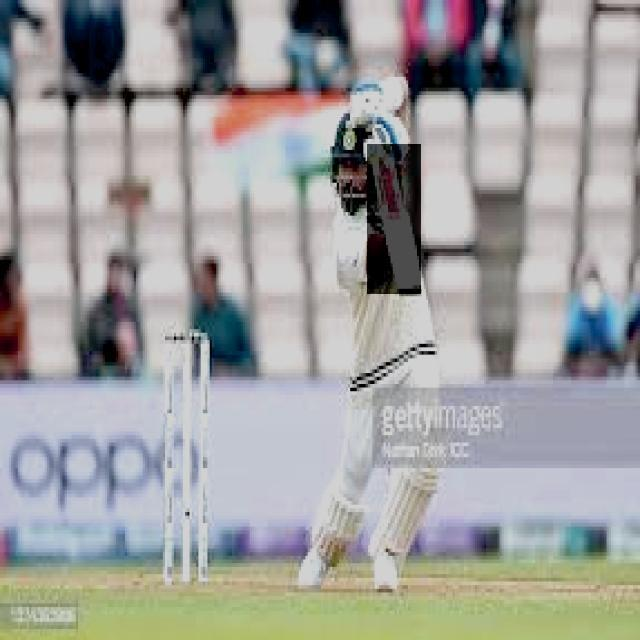bat: (365, 144, 426, 297)
toe: (393, 283, 423, 297)
